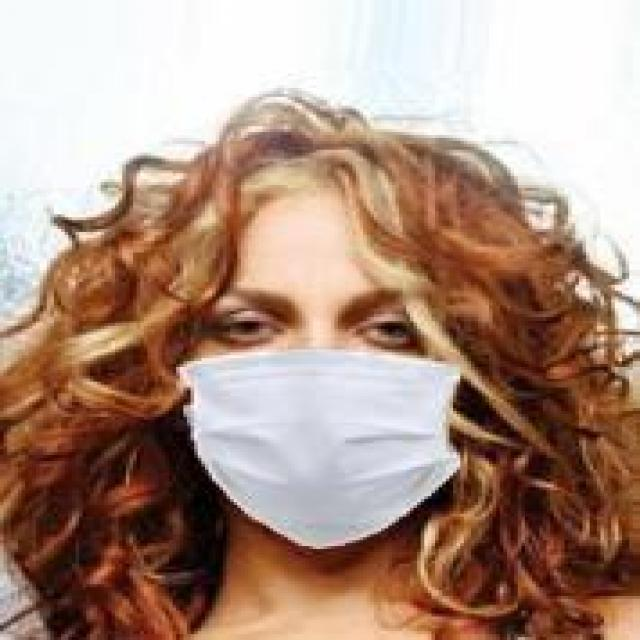mask: (83, 47, 568, 546)
